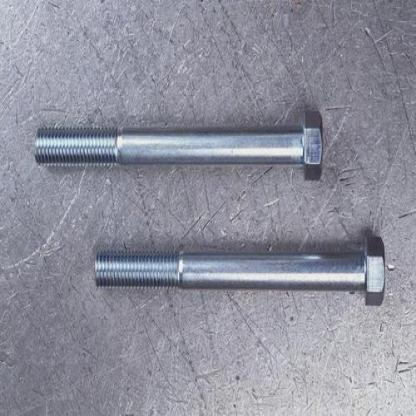FOD: (92, 232, 386, 309), (31, 110, 324, 181)
